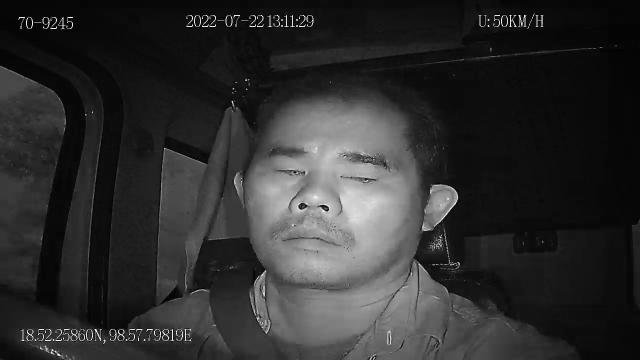SafeDriving: (331, 155, 396, 191), (262, 151, 316, 185)
Seatbelt: (202, 283, 280, 360)
